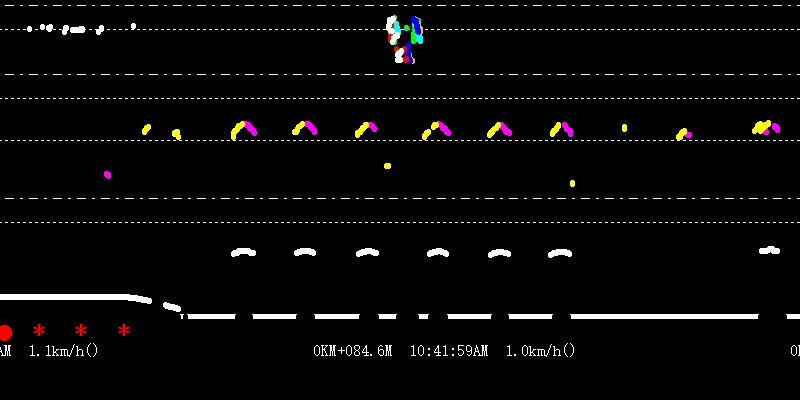J: (387, 4, 424, 62)
star: (72, 322, 89, 339), (31, 320, 49, 336), (116, 320, 132, 337)
y_p: (218, 111, 580, 261)
